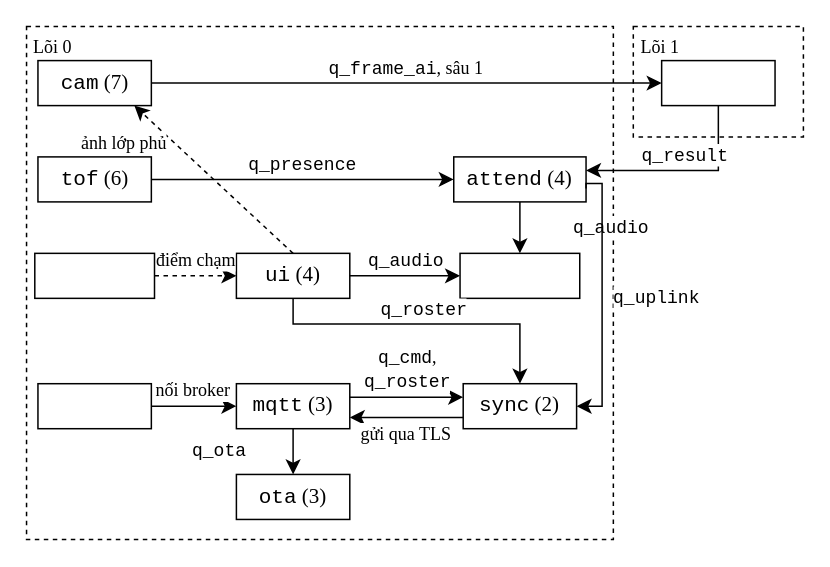
The diagram is 830 pixels wide and 567 high, and some of its shapes have lost their labels. The centre of each missing label's shape, as x and y in pixels:
ai (5): (x=717, y=82)
audio (6): (x=519, y=275)
net (3): (x=93, y=405)
touch (5): (x=93, y=275)
